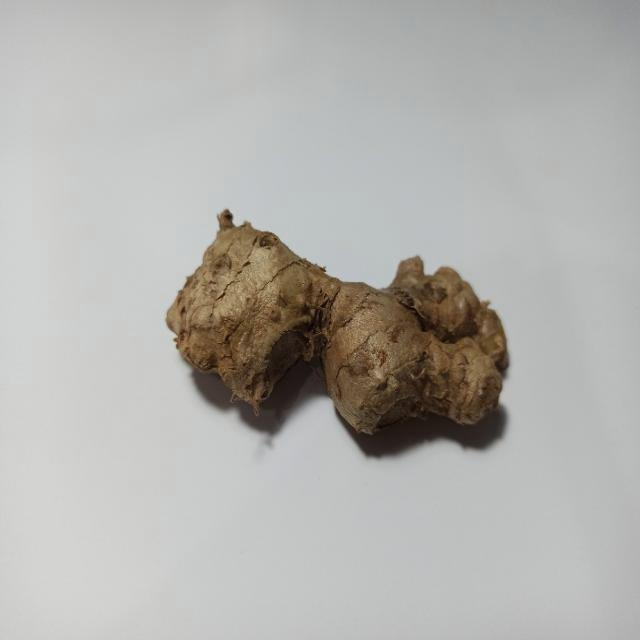ginger: (166, 223, 508, 437)
